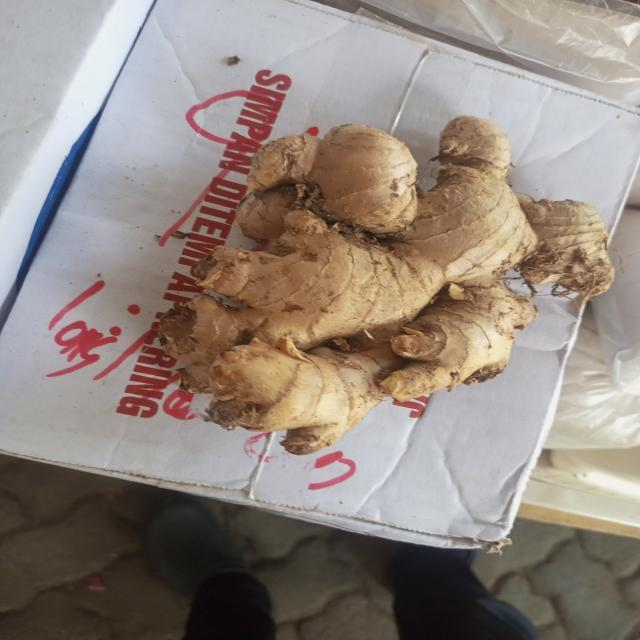ginger: (170, 112, 612, 446)
